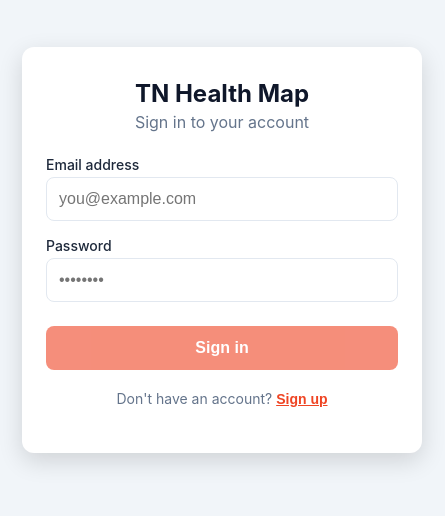
Test: LoginForm › displays the Supabase error message when credentials are invalid
The width and height of the screenshot is (445, 516).
In the field labelled "Email address": (222, 199) [46,177,398,221], type "bad@example.com"
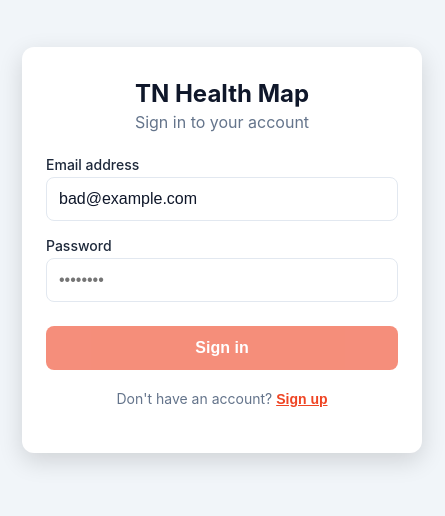
In the password field labelled "Password": (222, 280) [46,258,398,302], type "wrongpassword"
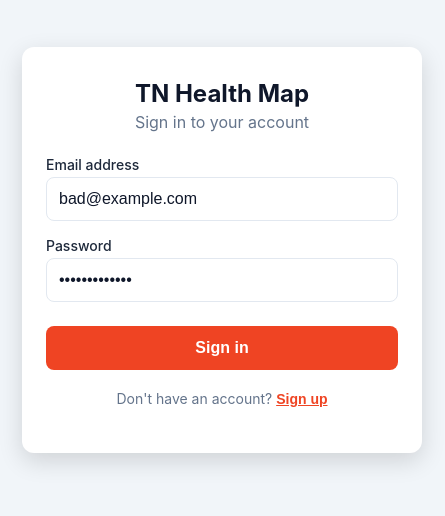
Click the button "Sign in": click(222, 348) [46,326,398,370]
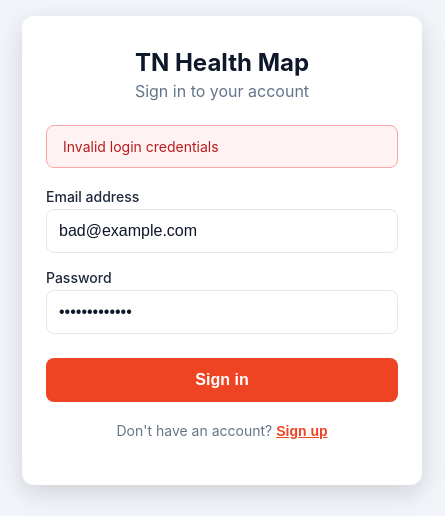
Expected: the message reads "Invalid login credentials", [63,138,219,154]
